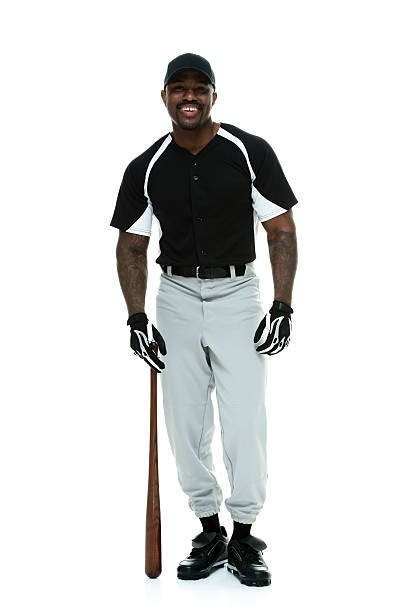bita: (137, 333, 168, 576)
